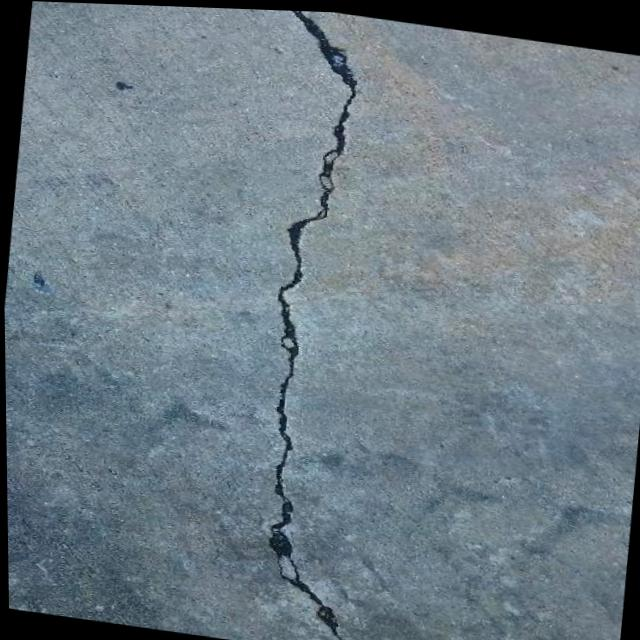Crack: (151, 4, 464, 640)
